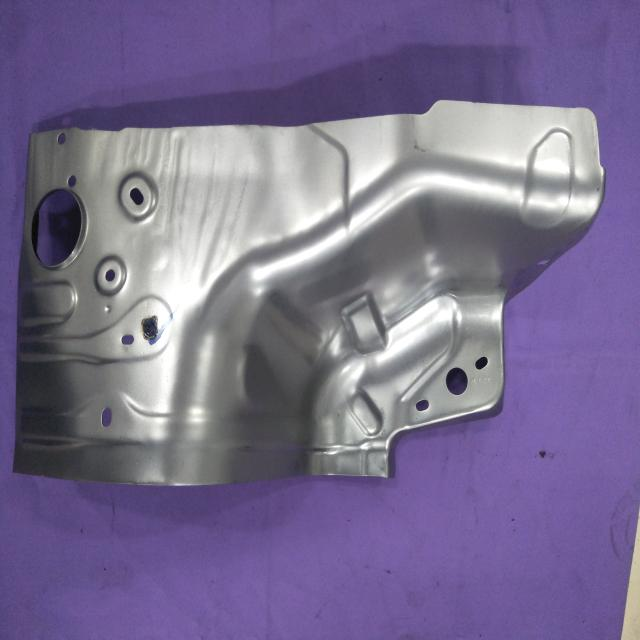Healthy: (13, 98, 606, 488)
